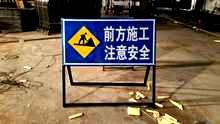sign: (62, 18, 156, 66)
